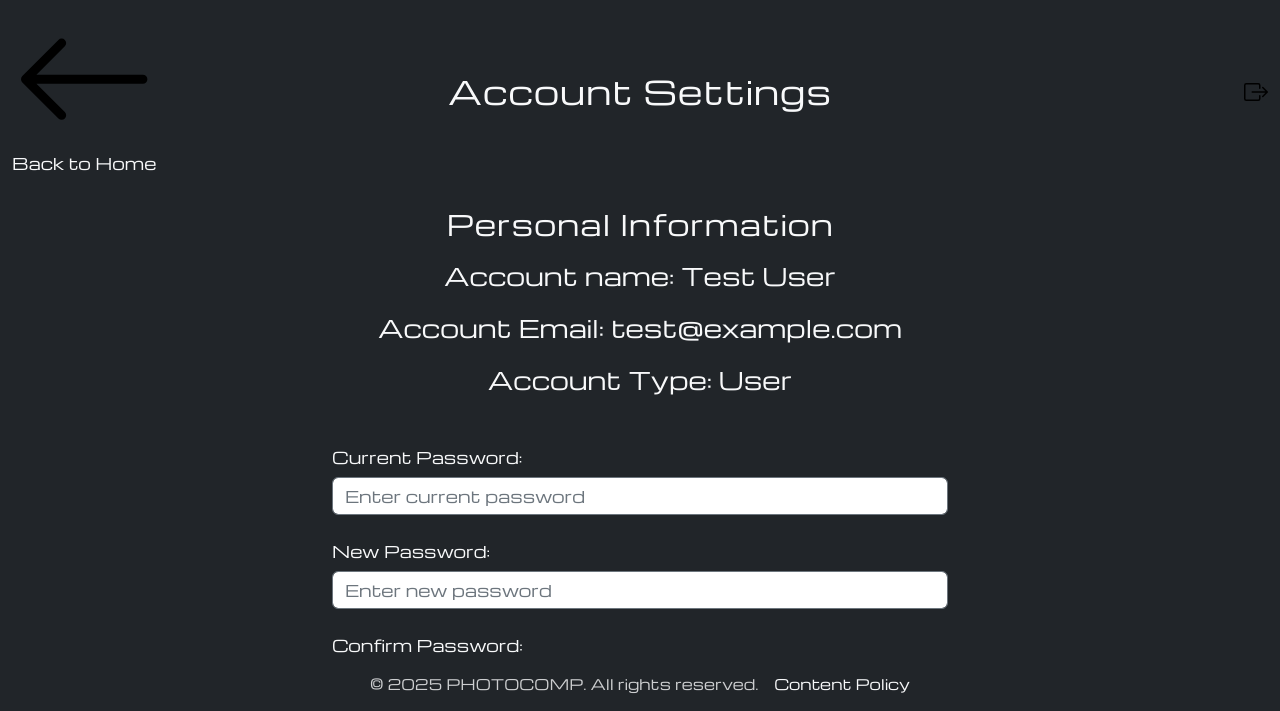
it: Account Settings Page › Password Change › successfully changes password
In the password field with id "currentPassword": (640, 496) [332,477,948,515], type "password123"
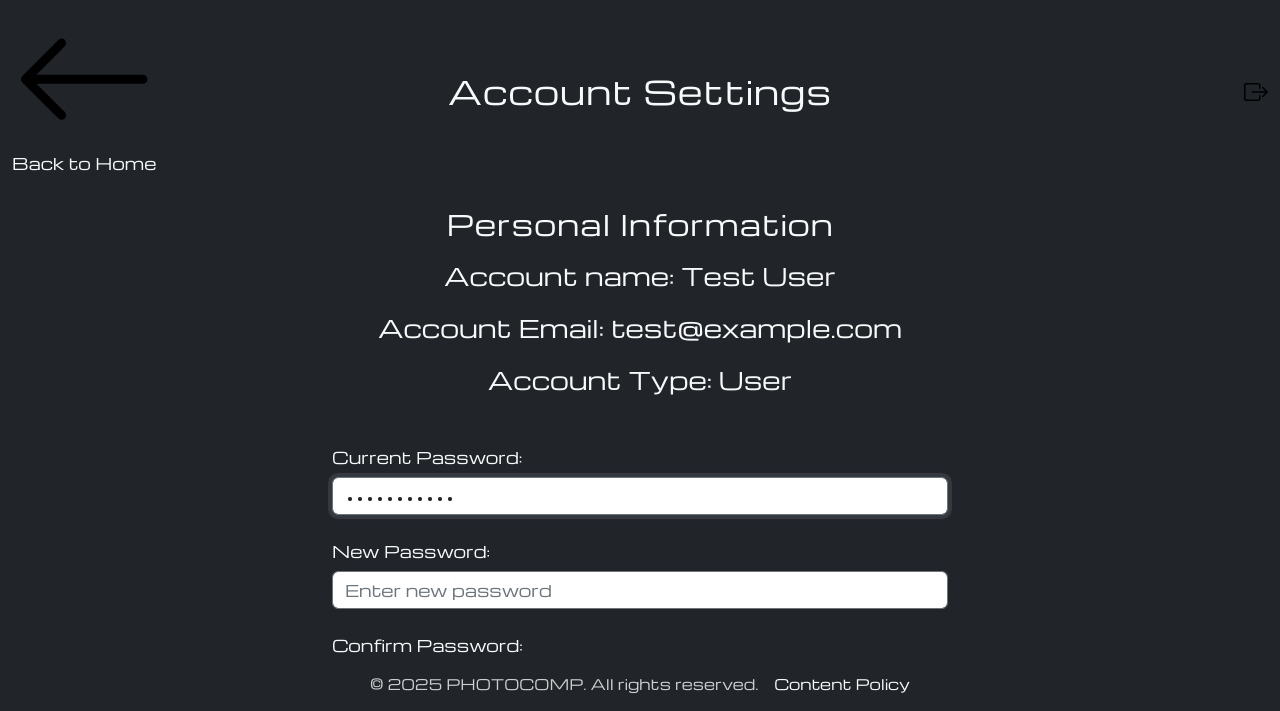
In the password field with id "newPassword": (640, 590) [332,571,948,609], type "newpassword123"
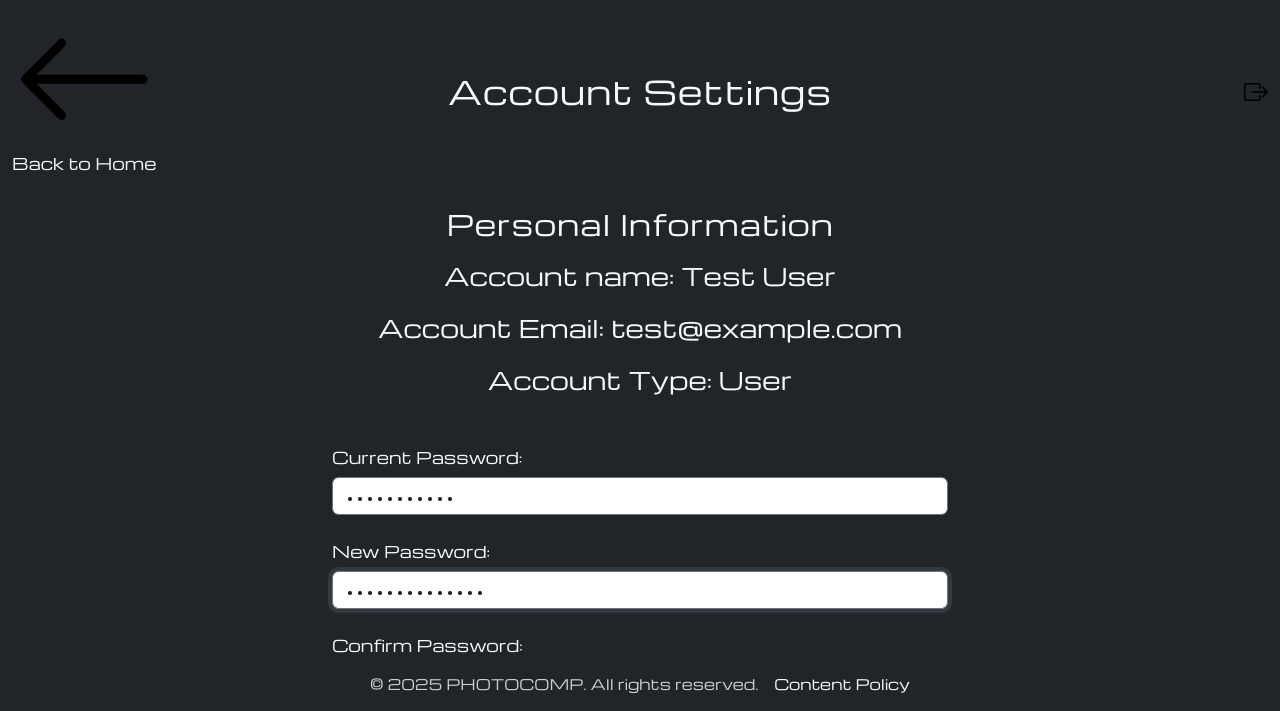
Scroll
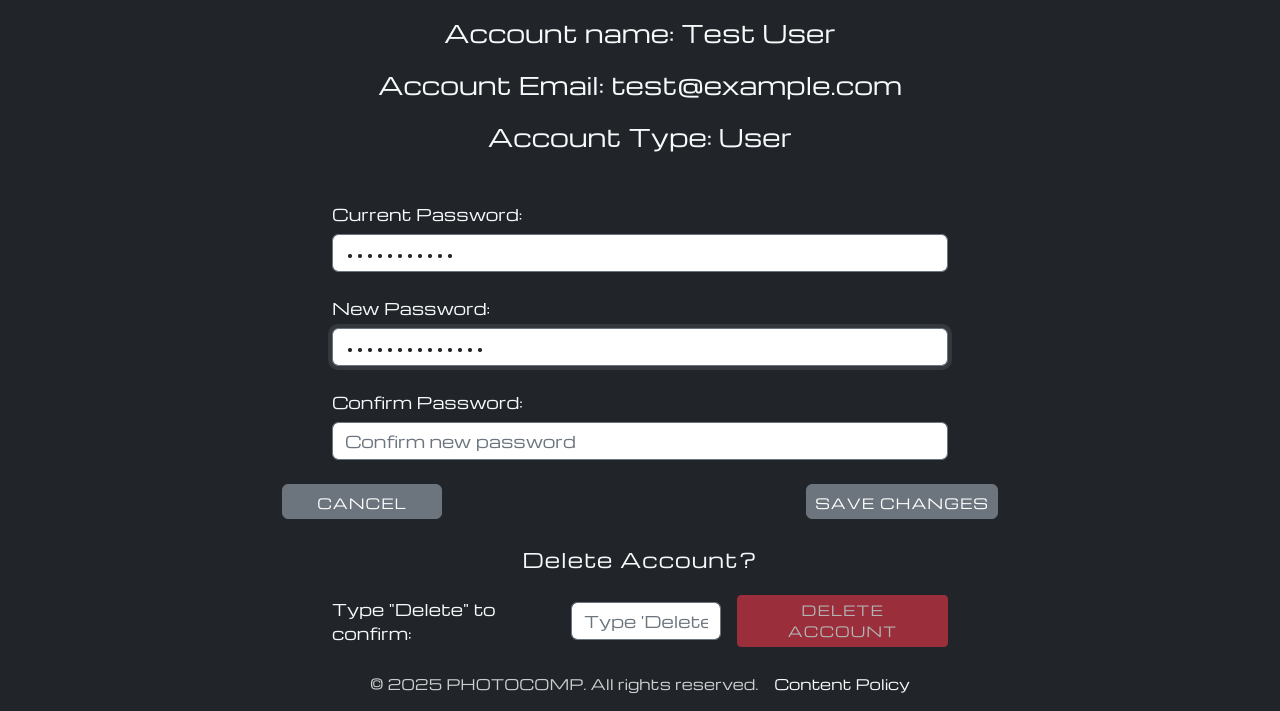
In the password field with id "confirmPassword": (640, 441) [332,422,948,460], type "newpassword123"
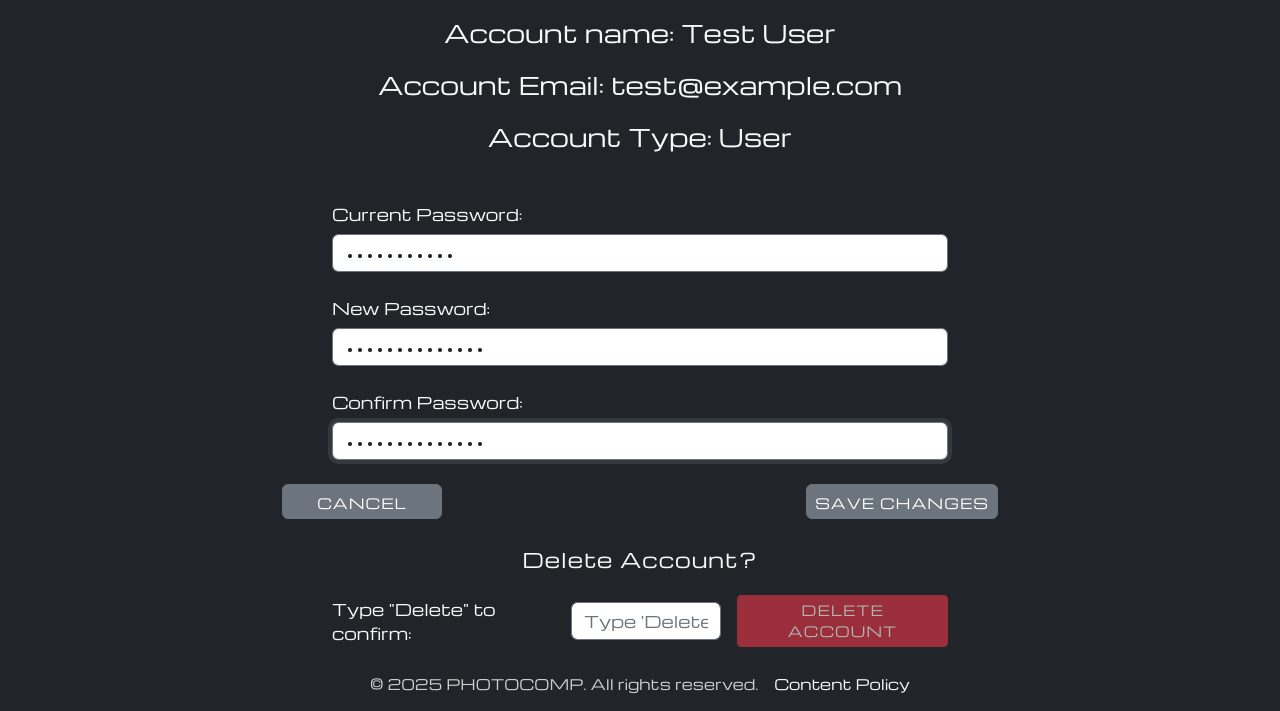
Click the button "Save Changes": (902, 502) [806,484,998,519]
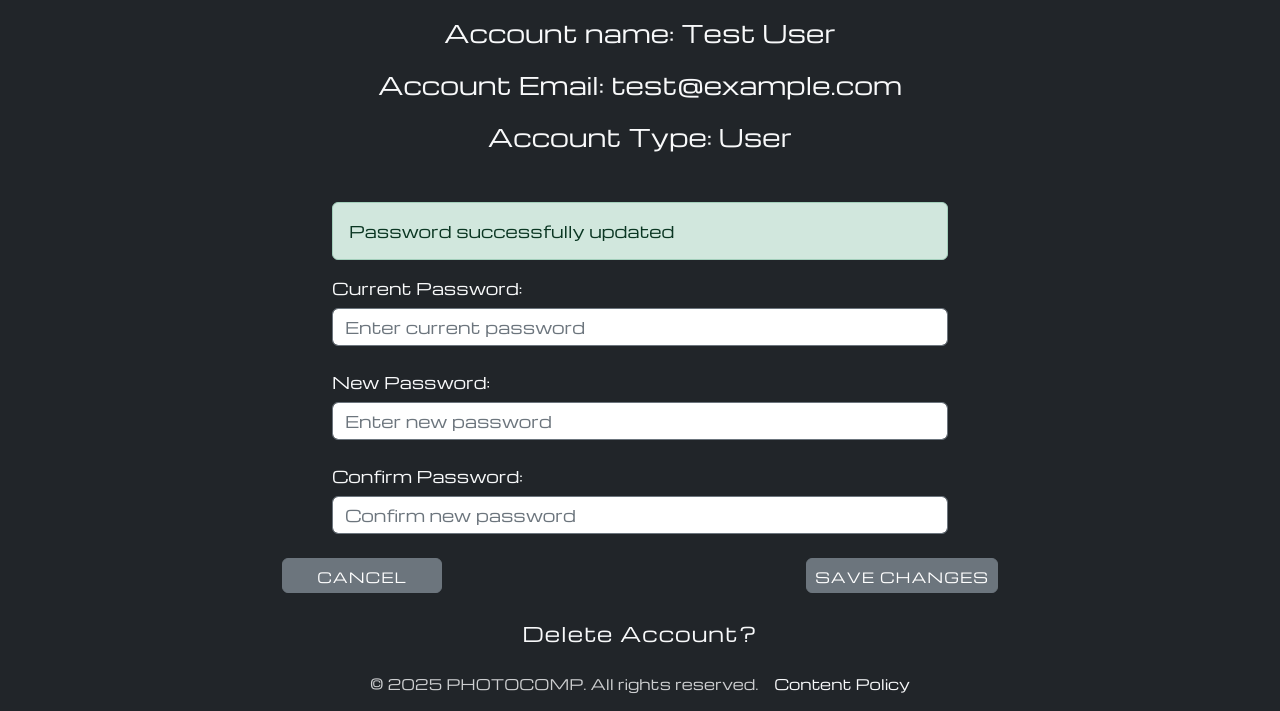
Expected: the text "Password successfully updated" is shown, [332,202,948,260]
